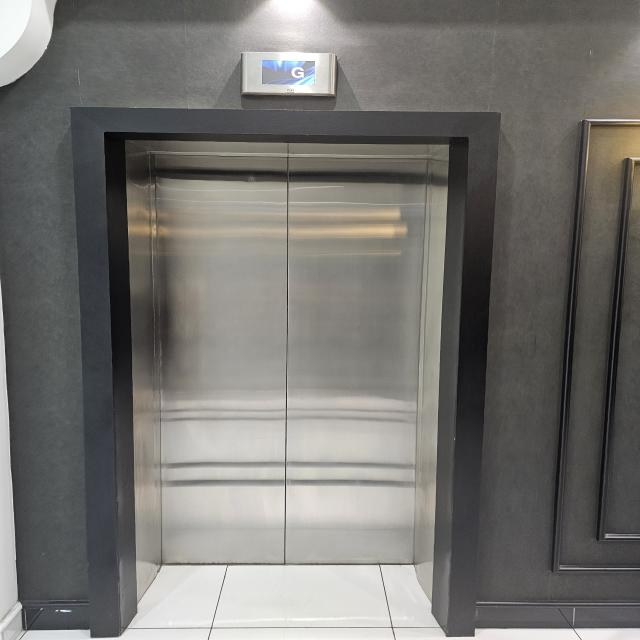elevator: (58, 101, 520, 636)
